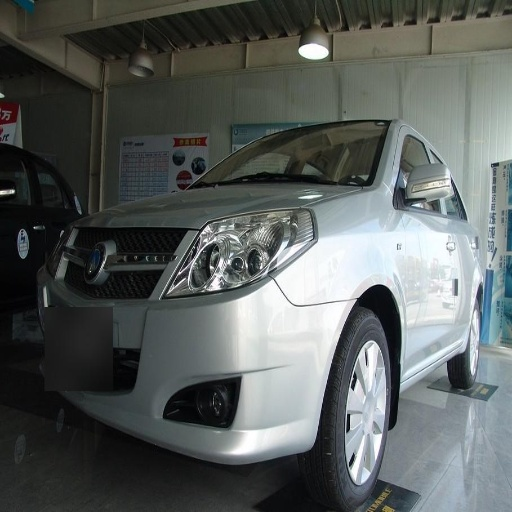front_bumper: (38, 229, 354, 463)
front_glass: (192, 124, 390, 187)
front_left_door: (395, 127, 455, 369)
